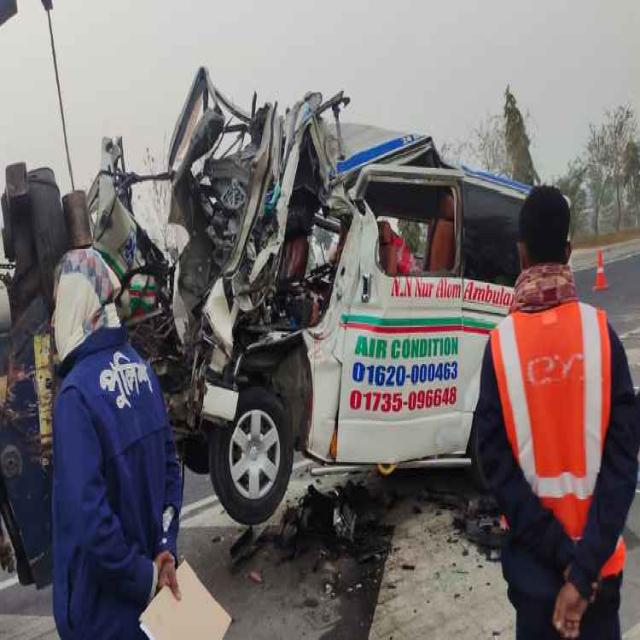accident: (88, 69, 530, 524)
